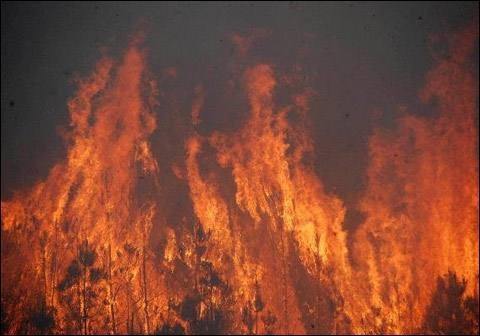fire: (12, 33, 476, 333)
